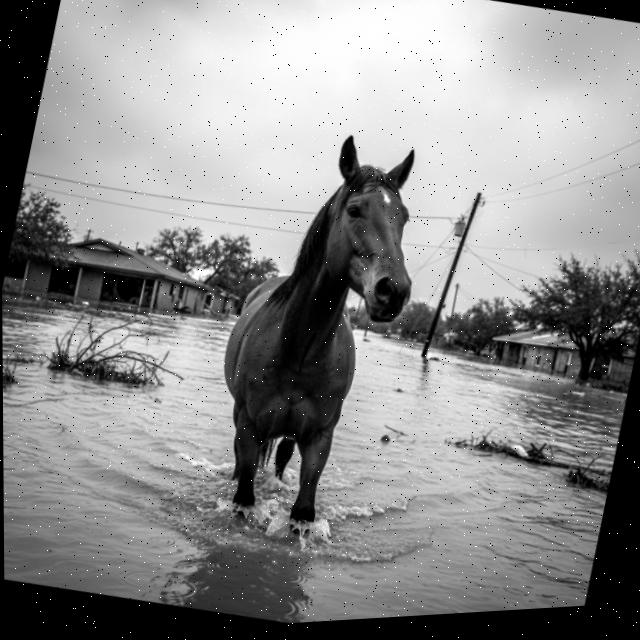horse: (179, 92, 460, 566)
